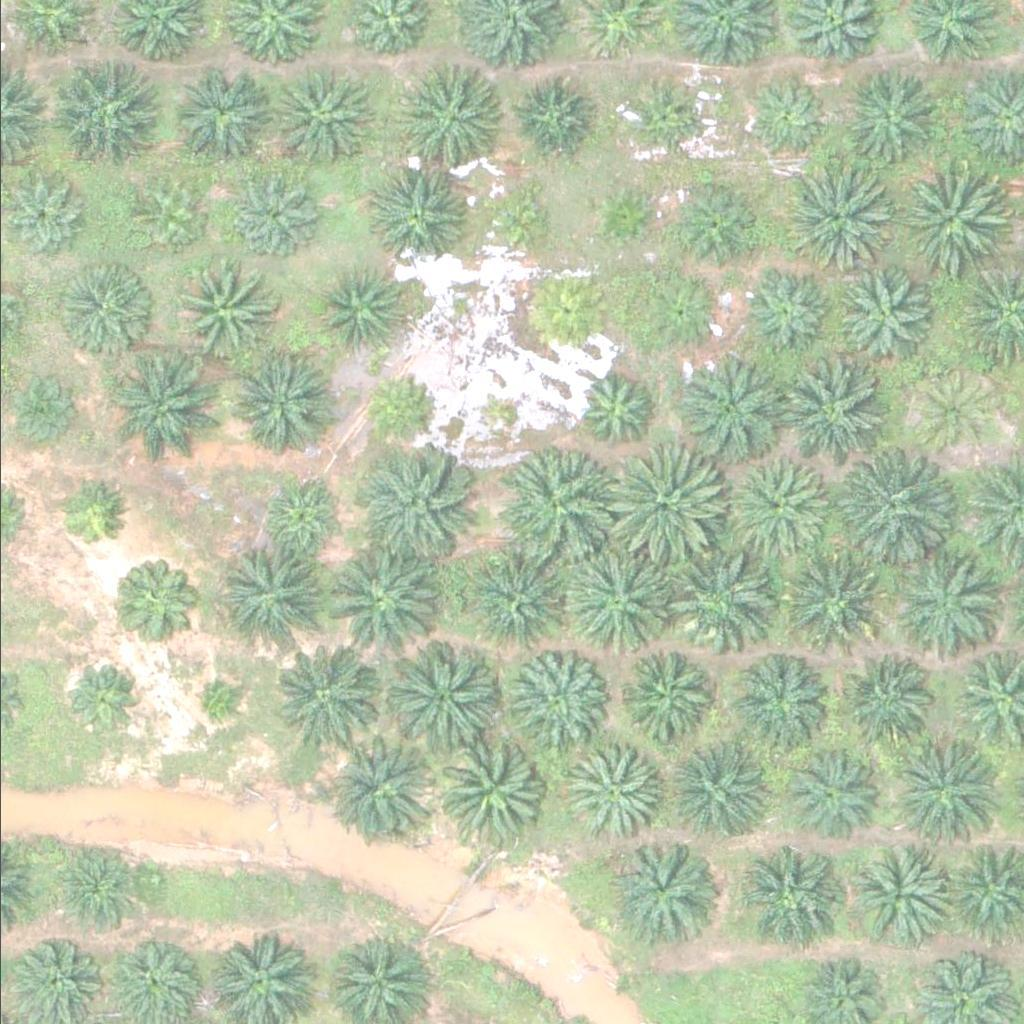Kelapa_Sawit: (384, 637, 497, 750), (267, 634, 380, 747), (503, 452, 616, 565), (355, 449, 468, 562), (667, 542, 780, 655), (834, 449, 947, 562), (781, 159, 894, 272), (893, 160, 1006, 273), (324, 541, 438, 653), (565, 545, 679, 657), (613, 447, 727, 559), (46, 52, 159, 164), (106, 354, 219, 466), (432, 733, 545, 845), (324, 730, 437, 842), (215, 546, 328, 658), (889, 737, 1002, 849), (768, 356, 881, 468), (675, 351, 788, 463), (263, 69, 364, 169), (172, 67, 273, 167), (365, 160, 466, 260), (172, 259, 273, 359), (233, 356, 334, 456), (607, 837, 708, 937), (558, 744, 659, 844), (613, 642, 714, 742), (505, 649, 606, 749), (849, 840, 950, 940), (725, 458, 826, 558), (831, 263, 932, 363), (839, 67, 940, 167), (402, 66, 502, 166), (54, 260, 154, 360), (657, 742, 757, 842), (468, 556, 568, 656), (740, 846, 840, 946), (781, 742, 881, 842), (736, 654, 836, 754), (840, 651, 940, 751), (890, 557, 990, 657), (777, 549, 877, 649), (523, 267, 612, 355), (254, 473, 342, 561), (637, 267, 725, 355), (117, 558, 205, 646), (906, 368, 994, 456), (739, 72, 827, 160), (740, 269, 829, 356), (510, 74, 598, 161), (233, 172, 321, 259), (313, 266, 401, 353), (61, 656, 149, 743), (58, 843, 146, 930), (569, 363, 657, 450), (667, 178, 755, 265), (364, 370, 440, 445), (2, 373, 78, 448), (587, 178, 663, 253), (479, 182, 555, 257), (617, 84, 692, 159), (53, 478, 128, 553), (132, 179, 207, 254), (184, 675, 234, 725)
